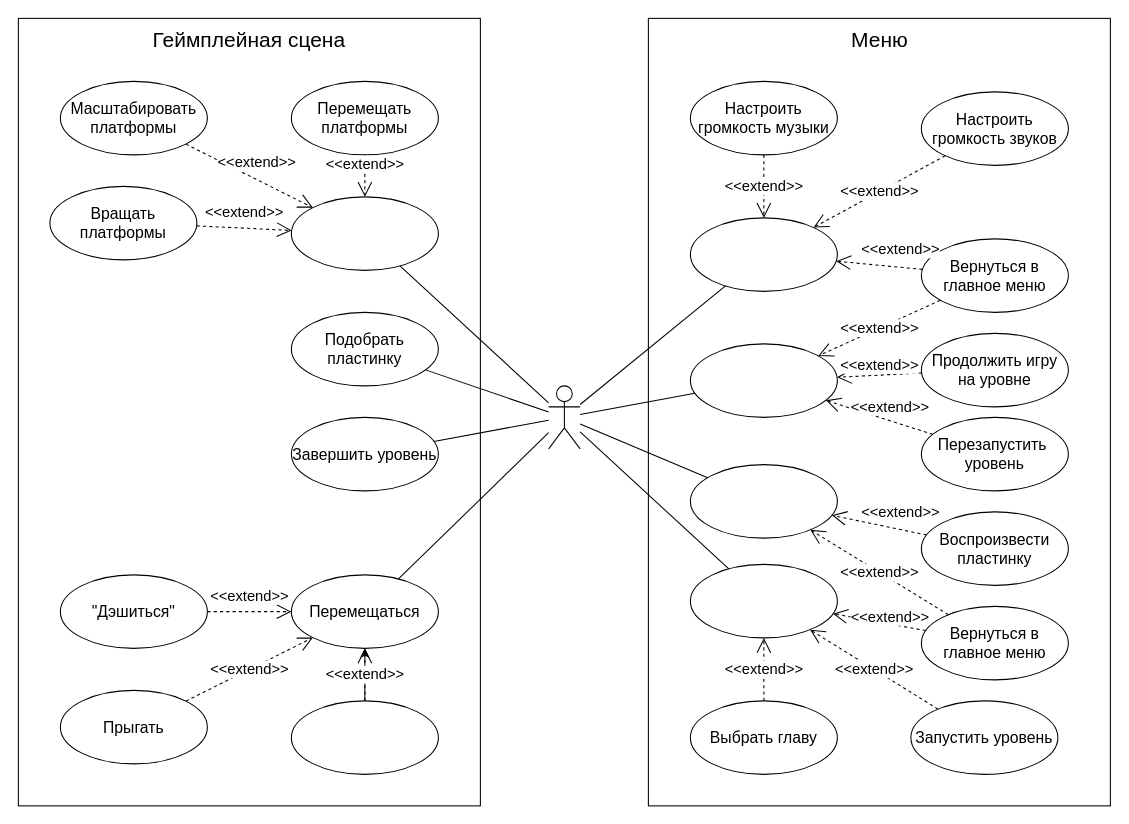
This 1129x824 diagram has some shape labels left out. The shapes that lost their labels are listed below. From the top down, each one's box as (x1, y1, x2, y2) in pixels, then its label:
(290, 196, 438, 270): Использовать ноты
(689, 217, 837, 291): Просмотреть окно настроек
(689, 343, 837, 417): Просмотреть окно паузы
(548, 385, 580, 449): Игрок
(689, 464, 837, 538): Просмотреть окно пластинок
(689, 563, 837, 638): Просмотреть окно выбора уровня
(290, 700, 438, 774): Идти
